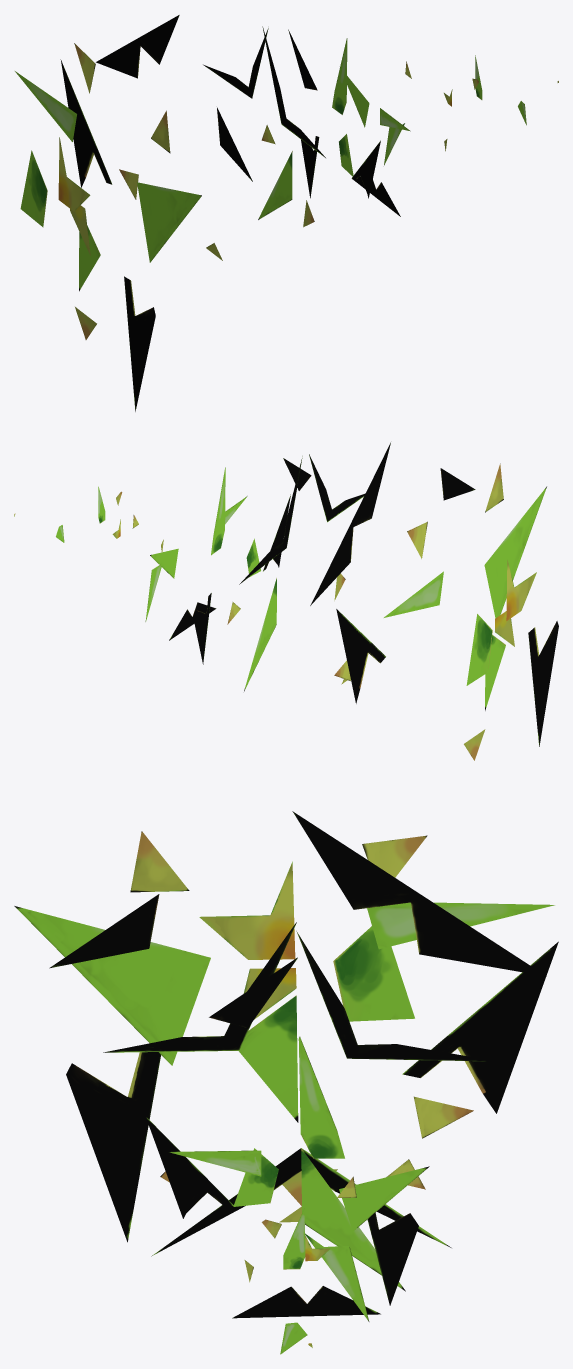
File: 01-star.glb
3 renders of one model, top to bottom at view 1: azimuth 30°, elevation 25°; view 2: azimuth 150°, elevation 25°; view 3: azimuth 270°, elevation 25°, orthographic. The views are drawn at different scales.
Parts seen in each view (by area): view 1: obj1-star.001; view 2: obj1-star.001; view 3: obj1-star.001.
Part boxes in pixels (bbox=[...]): obj1-star.001: bbox=[15, 15, 558, 411]; obj1-star.001: bbox=[14, 442, 558, 760]; obj1-star.001: bbox=[14, 811, 558, 1354].
Size of the model in its own units: 1.57 by 0.992 by 0.9706.
1 material, 1 textured.
